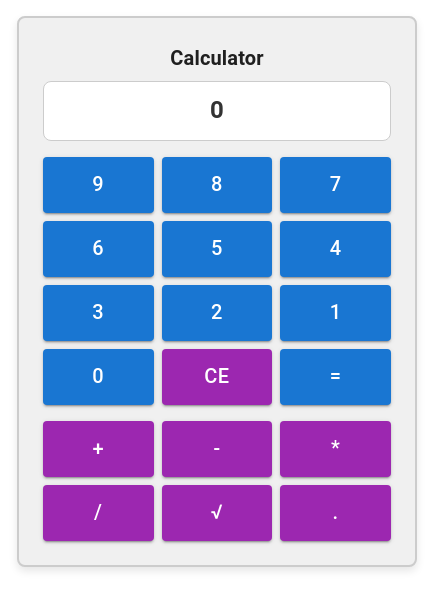
Calculator Component › should clear the display when CE button is clicked
What coordinates should you click on to do the following:
click the button "1"
I would click on:
 (336, 312)
Its box is [280, 284, 391, 340].
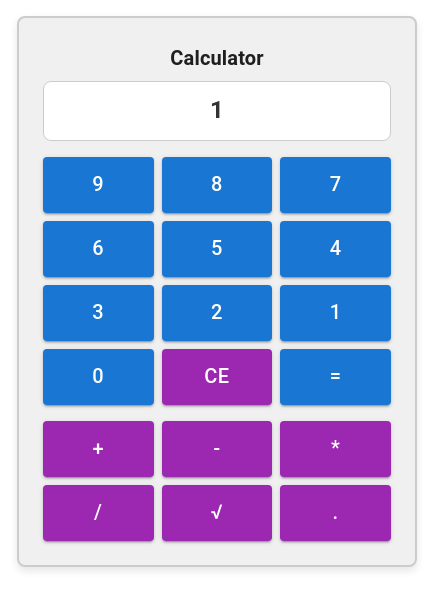
What coordinates should you click on to do the following:
click the button "CE"
I would click on:
 (217, 376)
Its box is [162, 348, 272, 404].
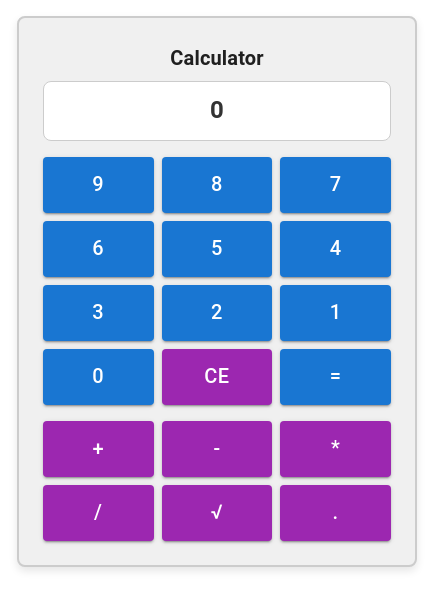
Result: the field holds "0" at [52, 89, 382, 132]
